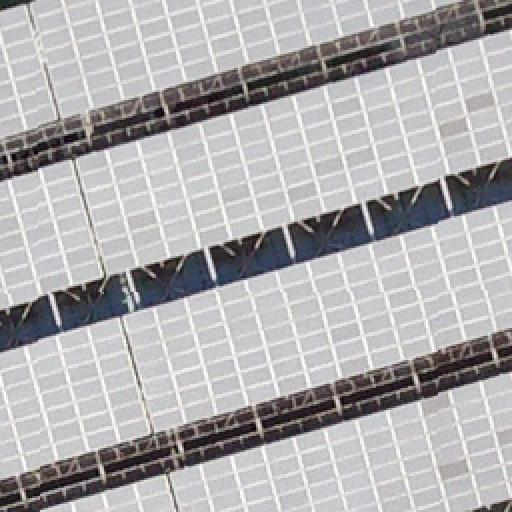solar-panel: (0, 29, 512, 307), (0, 202, 512, 478), (33, 369, 511, 511), (0, 0, 460, 136)
